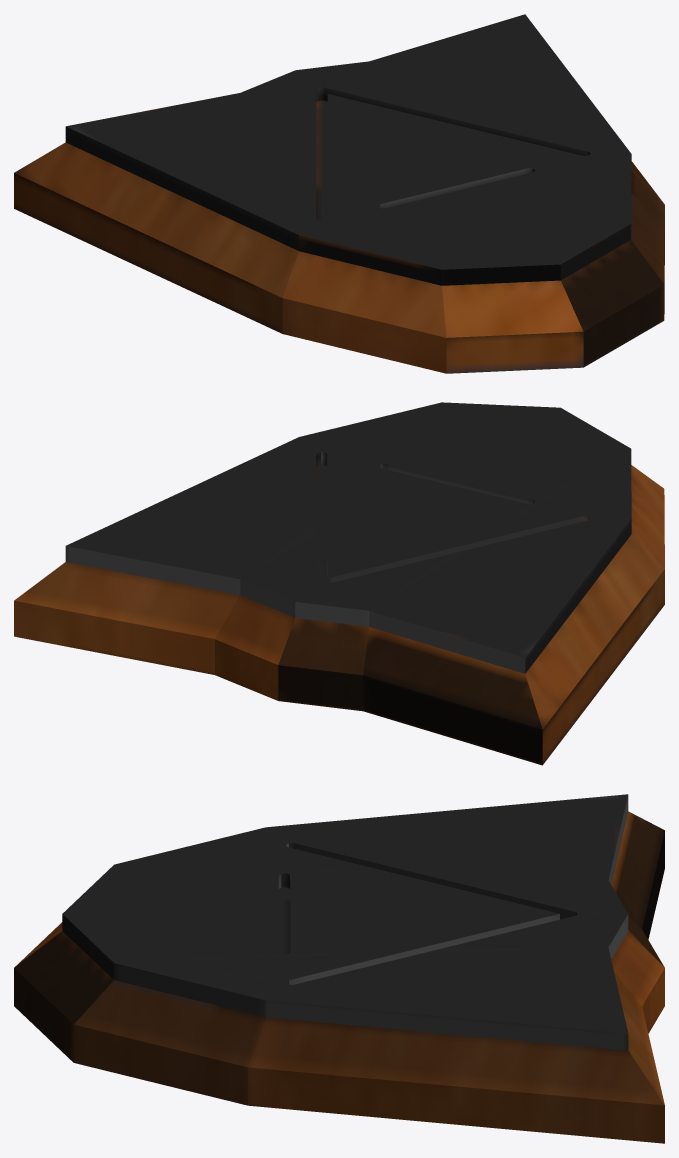
Rendered from plaque.dae.
3 renders of one model, top to bottom at view 1: azimuth 30°, elevation 25°; view 2: azimuth 150°, elevation 25°; view 3: azimuth 270°, elevation 25°, orthographic. The views are drawn at different scales.
Visible parts, largest first — view 1: plaque; view 2: plaque; view 3: plaque.
Boxes of the visible parts, bbox=[...] form: plaque: bbox=[14, 14, 664, 373]; plaque: bbox=[14, 402, 664, 765]; plaque: bbox=[14, 794, 664, 1143].
Size of the model in its own units: 0.5992 by 0.5992 by 0.0938.
1 material, 1 textured.
